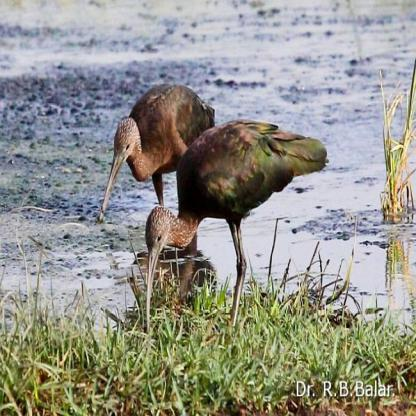Burung: (137, 121, 328, 342), (96, 81, 218, 229)
